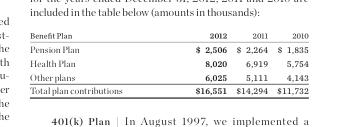table: (28, 28, 307, 96)
table column: (28, 28, 158, 96), (158, 28, 231, 96), (231, 28, 271, 96), (271, 28, 307, 96)
table column header: (28, 28, 307, 41)
table row: (28, 41, 307, 55), (28, 55, 307, 69), (28, 82, 307, 96), (28, 28, 307, 41), (28, 69, 307, 82)
